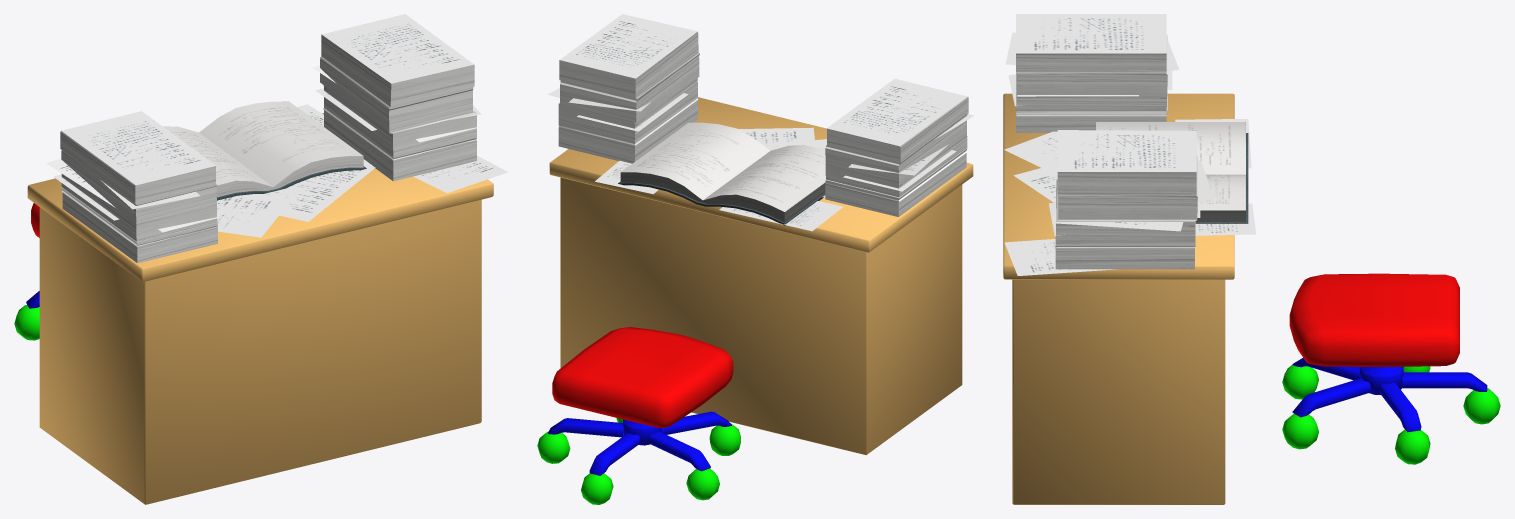
File: dek.fbx
The picture shows the model from 3 angles, left to right: view 1: azimuth 30°, elevation 25°; view 2: azimuth 150°, elevation 25°; view 3: azimuth 270°, elevation 25°; orthographic projection. The views are drawn at different scales.
Visible parts, largest first — view 1: desk, paper, book, chair; view 2: desk, paper, chair, book; view 3: desk, paper, chair, book.
Part boxes in pixels (x1,y1,x2,y2): desk: [27, 113, 493, 504]; paper: [46, 14, 508, 263]; book: [163, 101, 366, 200]; chair: [14, 203, 39, 340]; desk: [549, 97, 973, 455]; paper: [547, 14, 974, 231]; chair: [537, 327, 740, 504]; book: [618, 122, 825, 225]; desk: [1003, 93, 1234, 504]; paper: [1004, 14, 1256, 275]; chair: [1282, 273, 1500, 464]; book: [1096, 122, 1248, 223].
Bounding box in the file's own units: 43.65 × 35.81 × 47.21.
